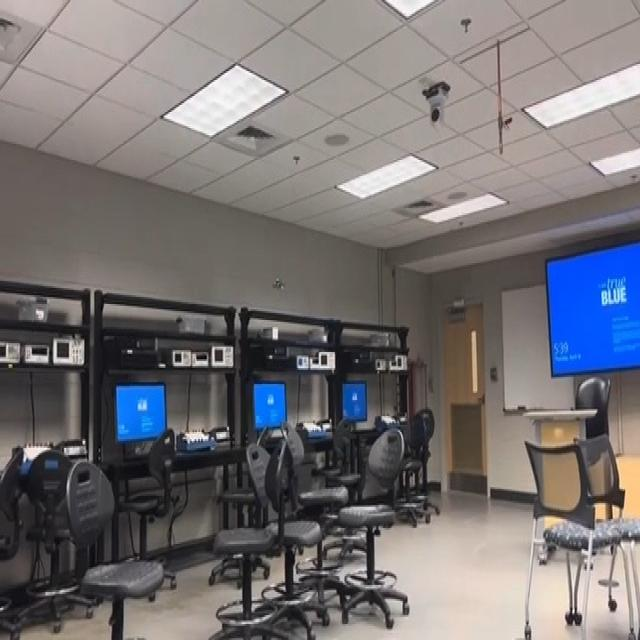drone: (265, 265, 294, 305)
